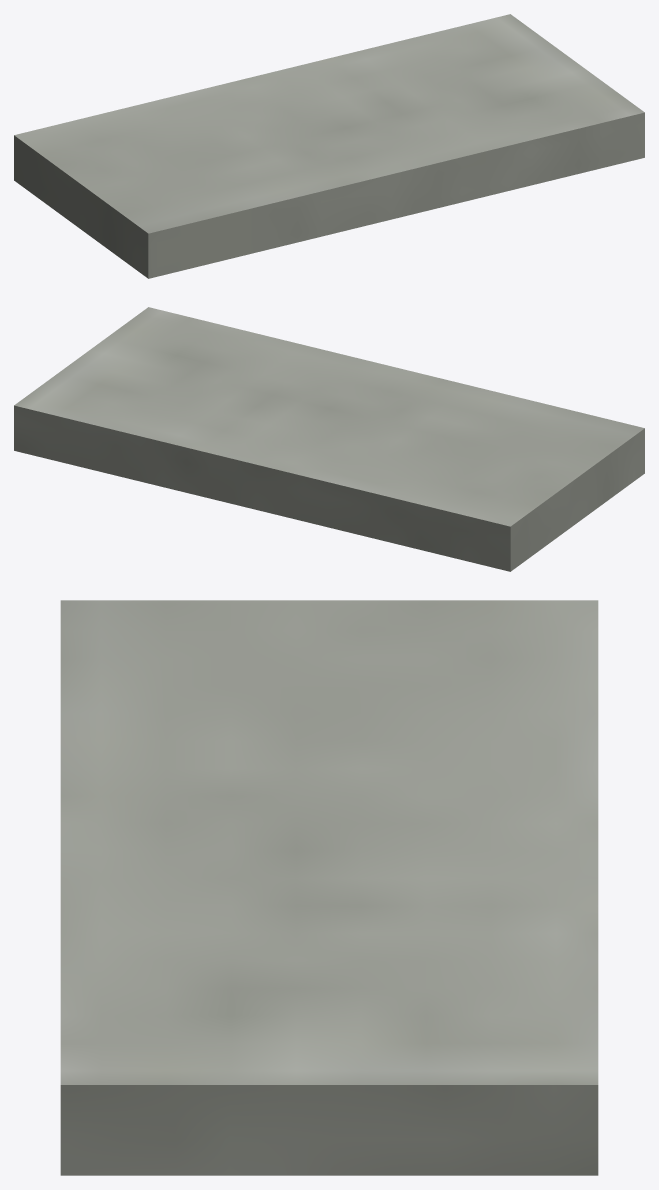
File: FB_ChengZhenJieDao_Dibiao02.FBX
The picture shows the model from 3 angles, top to bottom: view 1: azimuth 30°, elevation 25°; view 2: azimuth 150°, elevation 25°; view 3: azimuth 270°, elevation 25°; orthographic projection. The views are drawn at different scales.
Visible parts, largest first — view 1: Object03; view 2: Object03; view 3: Object03.
Part boxes in pixels (x1,y1,x2,y2): Object03: (14, 14, 644, 278); Object03: (14, 307, 644, 571); Object03: (60, 600, 598, 1175).
Size of the model in its own units: 0.9831 by 0.0856 by 0.4612.
